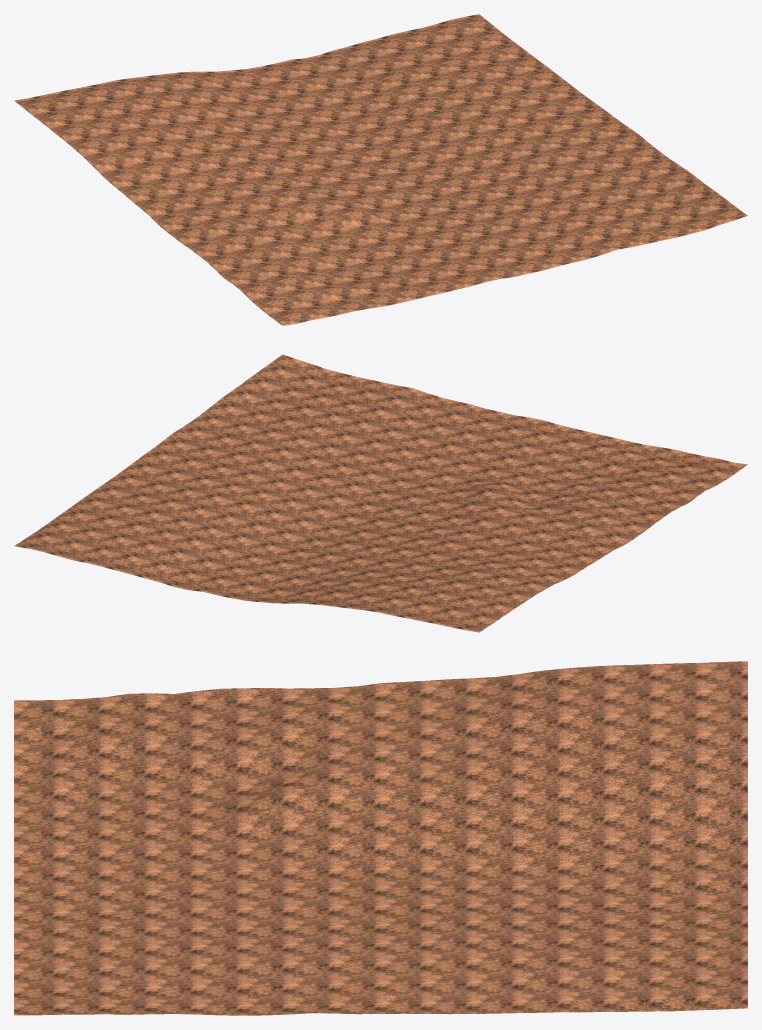
Rendered from terrain_07_16.dae.
3 renders of one model, top to bottom at view 1: azimuth 30°, elevation 25°; view 2: azimuth 150°, elevation 25°; view 3: azimuth 270°, elevation 25°, orthographic. The views are drawn at different scales.
Parts seen in each view (by area): view 1: terrain_07_16-node; view 2: terrain_07_16-node; view 3: terrain_07_16-node.
Boxes of the visible parts, <box> form: terrain_07_16-node: <box>14,14,747,325</box>; terrain_07_16-node: <box>14,354,747,632</box>; terrain_07_16-node: <box>14,661,747,1015</box>.
Bounding box in the file's own units: 128 × 128 × 9.67.
1 material, 1 textured.
